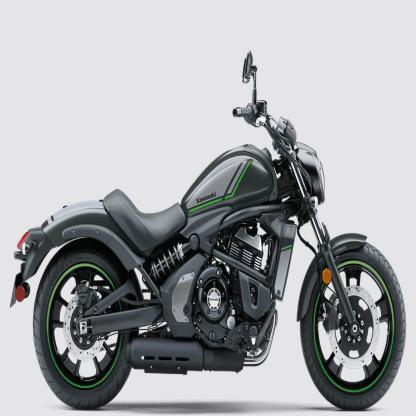Motorcycle: (8, 47, 408, 410)
